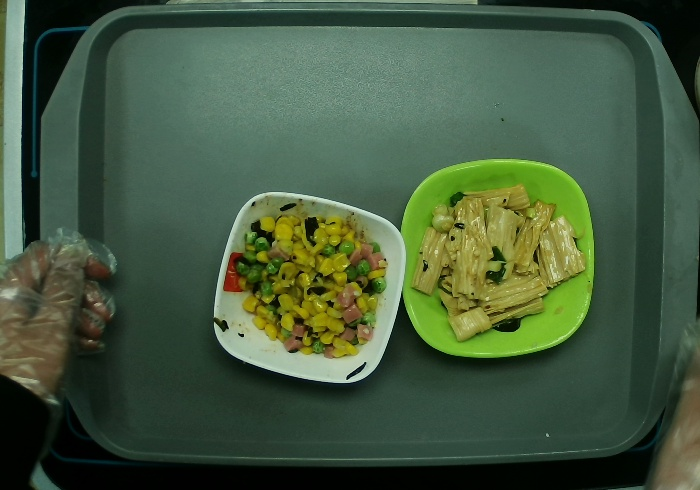SHKJ-Bai_Se_Xiao_Fang_Die: (208, 188, 410, 389)
SHKJ-Lv_Se_Cai_Die: (398, 155, 600, 364)
